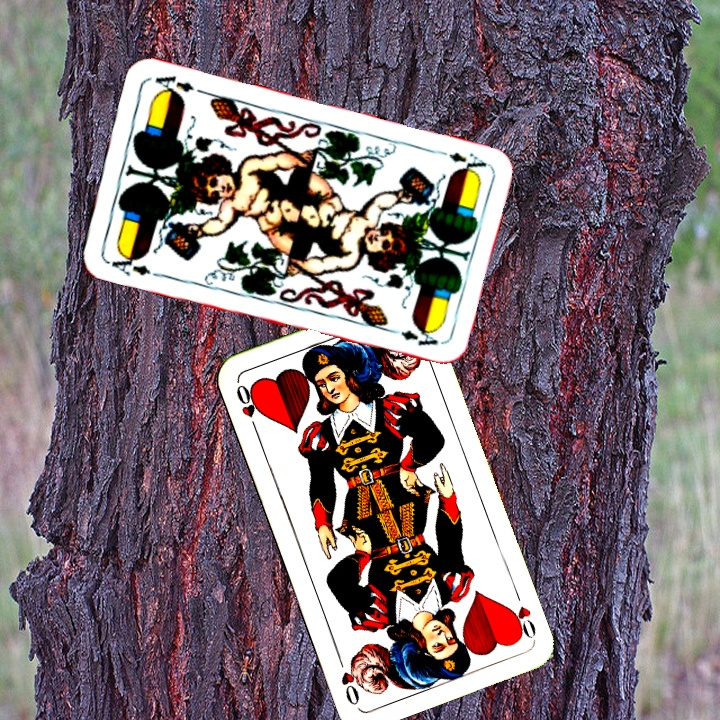EA: (431, 146, 489, 177), (102, 247, 153, 279)
HO: (504, 585, 539, 642), (232, 380, 262, 436)
